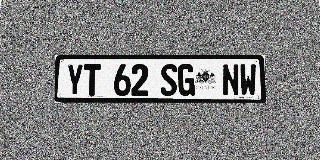2: (131, 64, 148, 96)
6: (114, 64, 131, 96)
G: (178, 64, 195, 96)
N: (222, 64, 239, 96)
S: (160, 64, 177, 96)
T: (84, 64, 101, 96)
W: (239, 64, 257, 96)
Y: (66, 64, 83, 96)
